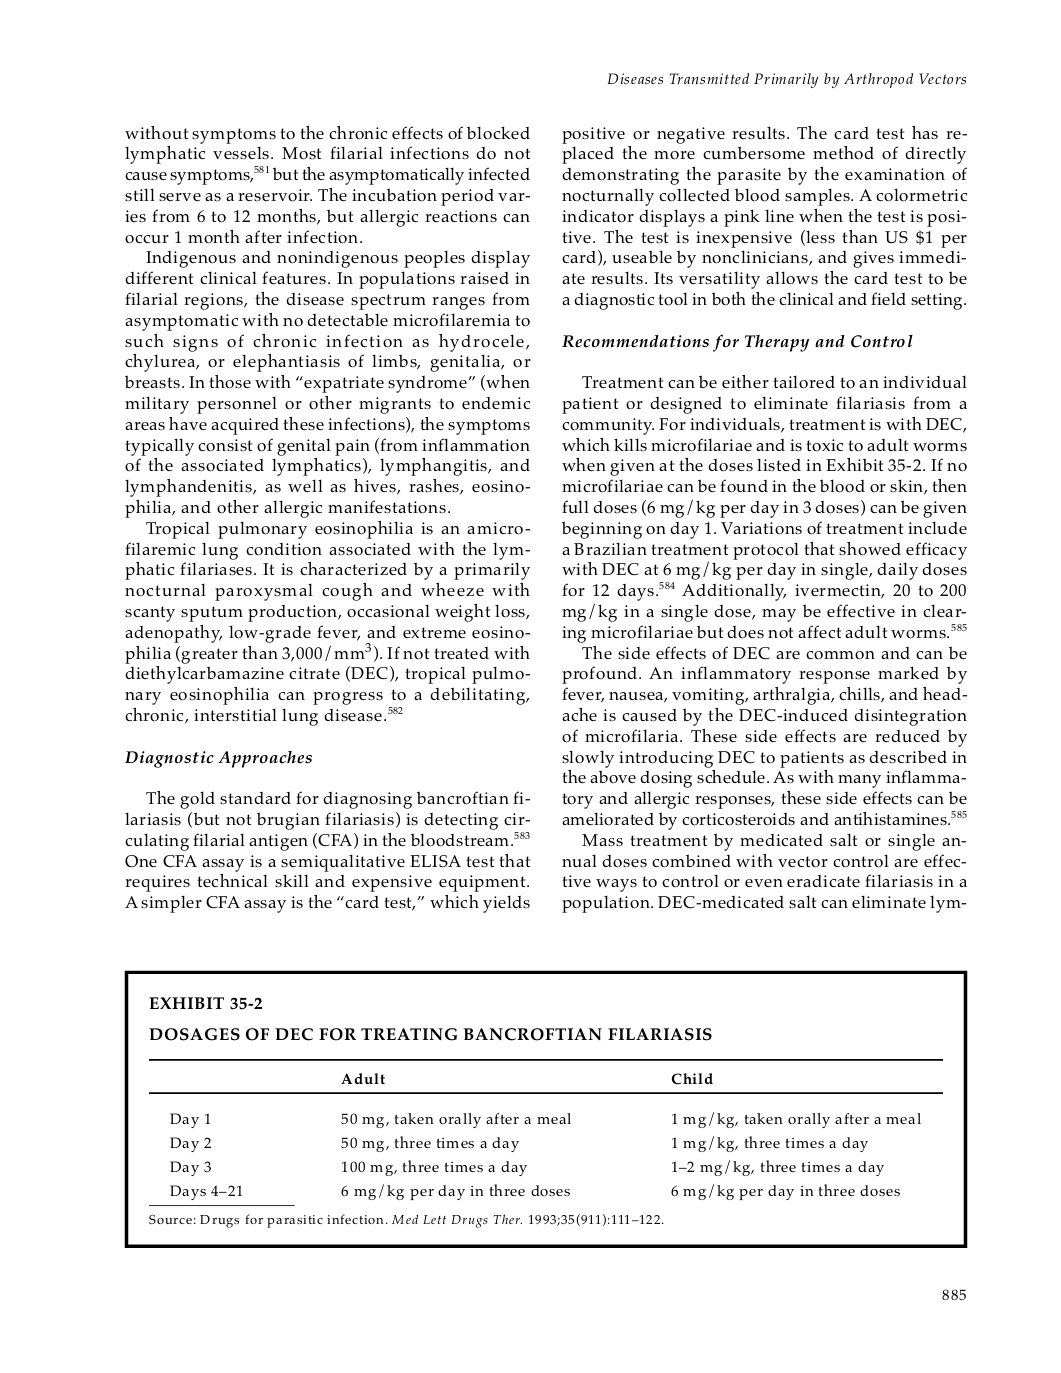Table: (124, 968, 967, 1248)
